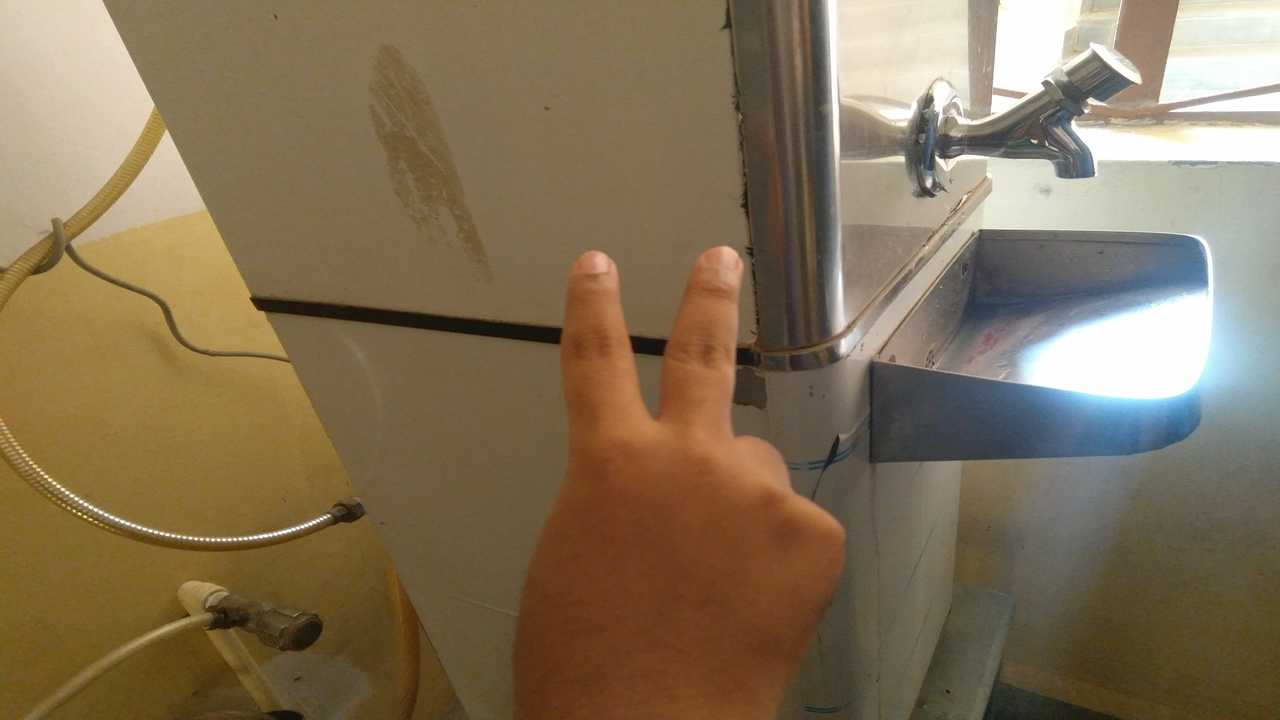fingertip: (678, 238, 746, 294), (562, 244, 628, 296)
